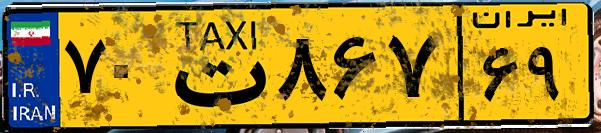0: (110, 28, 158, 98)
6: (330, 28, 385, 110), (475, 38, 525, 113)
7: (385, 28, 445, 110), (57, 26, 110, 100)
8: (270, 28, 330, 110)
9: (525, 38, 570, 115)
ت: (158, 12, 270, 120)
